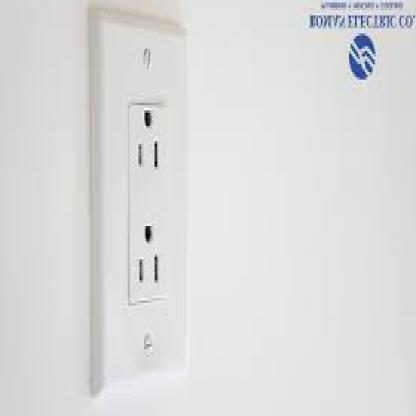OUTLET: (92, 13, 187, 400)
